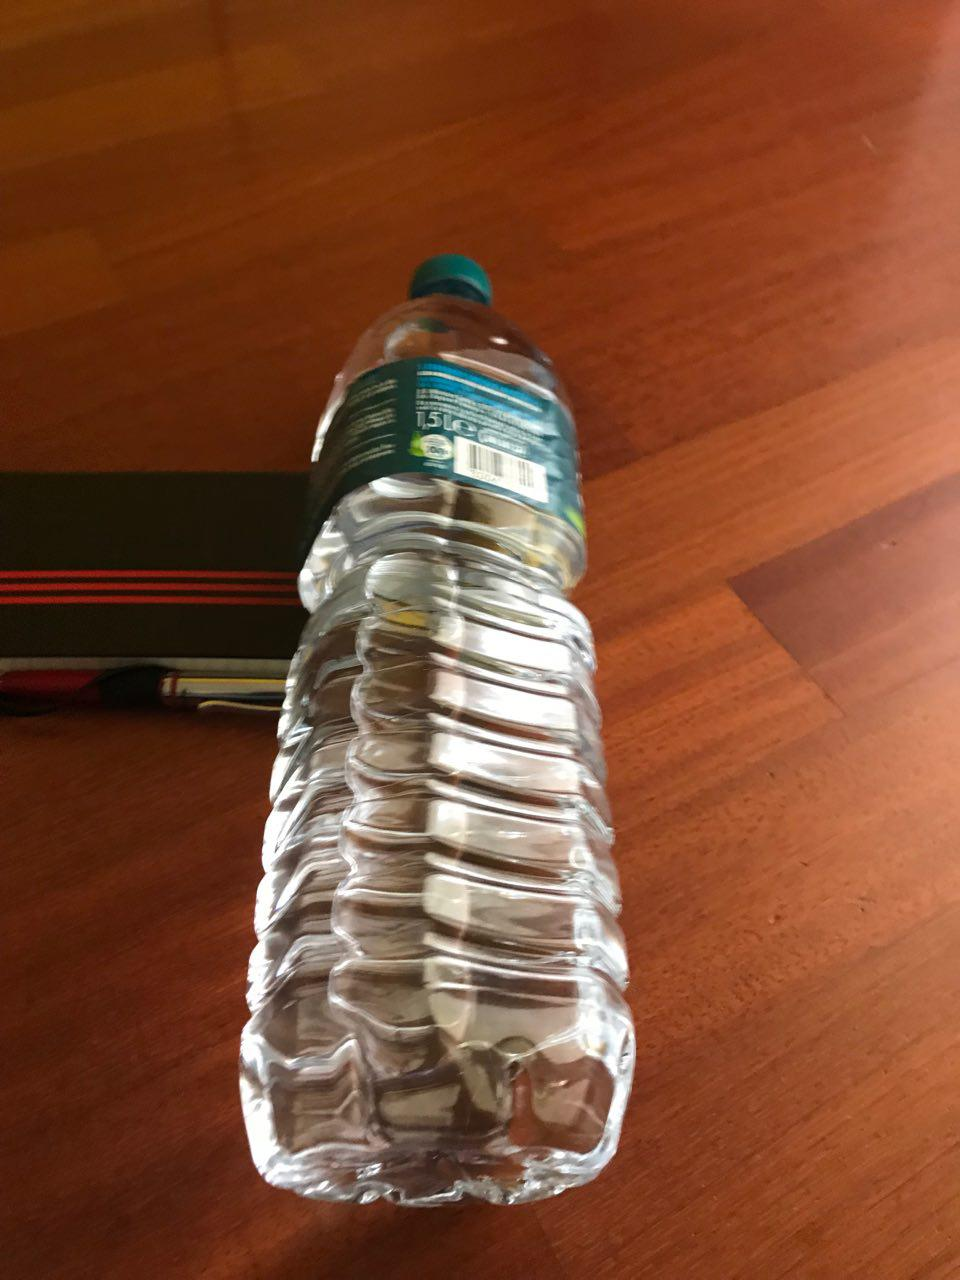san_bernardo: (233, 248, 639, 1211)
